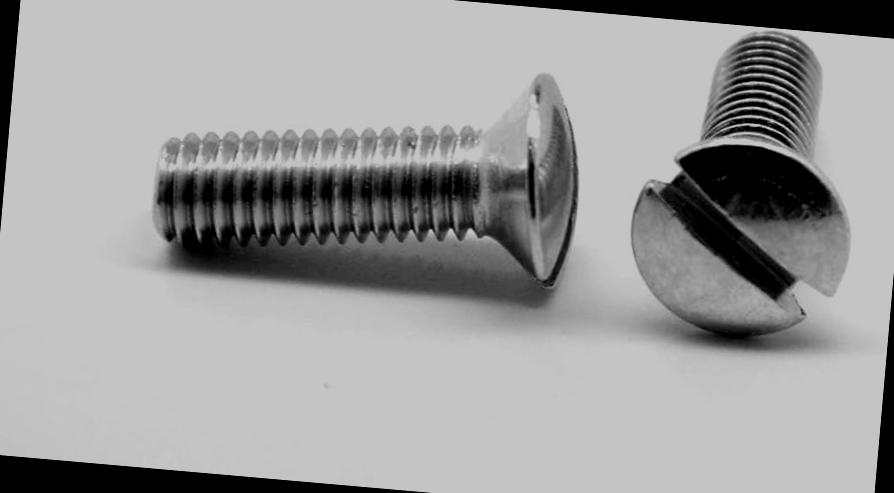slotted: (624, 132, 855, 347)
